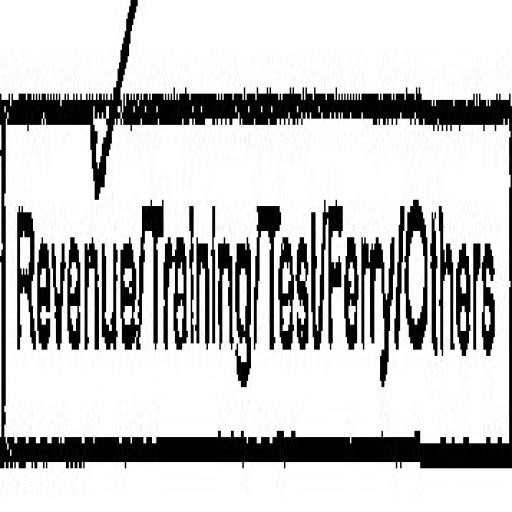check: (0, 0, 144, 510)
